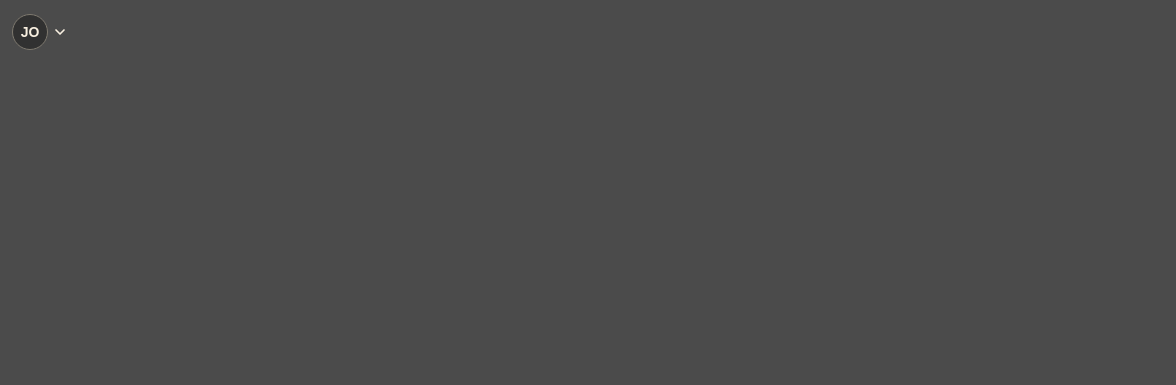
Test: AccountMenu › renders the avatar with initials and the account links for a signed-in member
The width and height of the screenshot is (1176, 385).
Click the button with aria-label "account menu for jack".
click(40, 32)  # box [12,12,68,52]
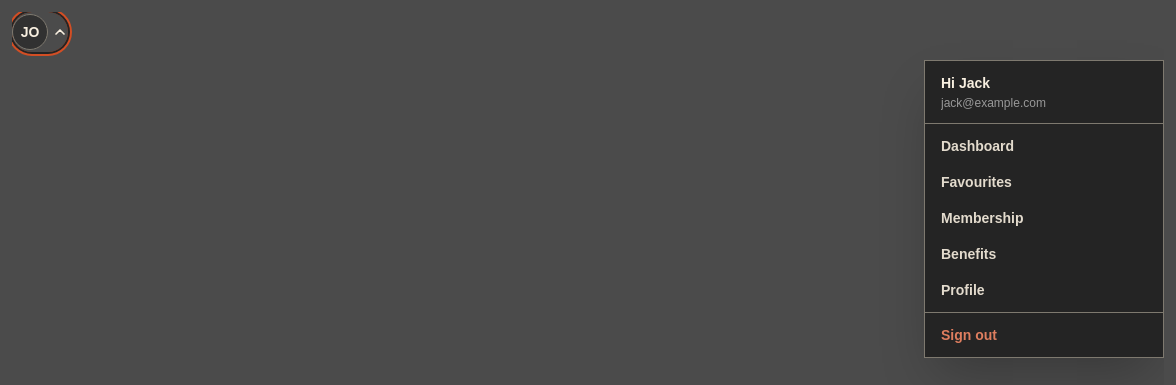
Expected: the menu named "account" shows "Hi Jack", [941,75,990,91]
Expected: the menu named "account" shows "jack@example.com", [941,96,1046,110]
Expected: the menu item "Dashboard" is shown, [941,138,1014,154]
